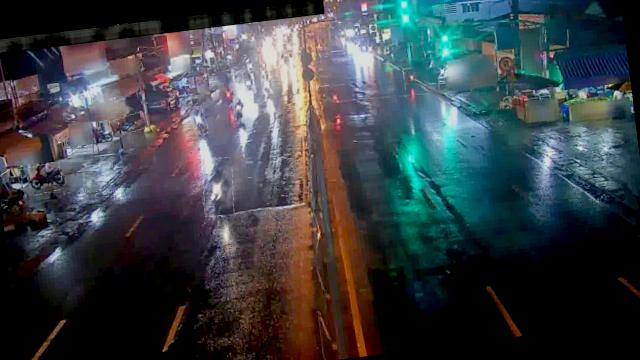Bike: (199, 156, 237, 218), (21, 162, 64, 197), (313, 83, 348, 119), (109, 112, 146, 136), (189, 105, 207, 136), (232, 96, 248, 124), (403, 68, 416, 90), (242, 70, 254, 90), (260, 74, 272, 94)
